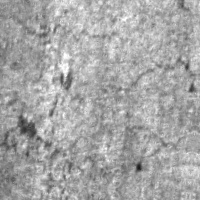crazing: (0, 105, 188, 190), (1, 0, 128, 45), (97, 47, 199, 101)
